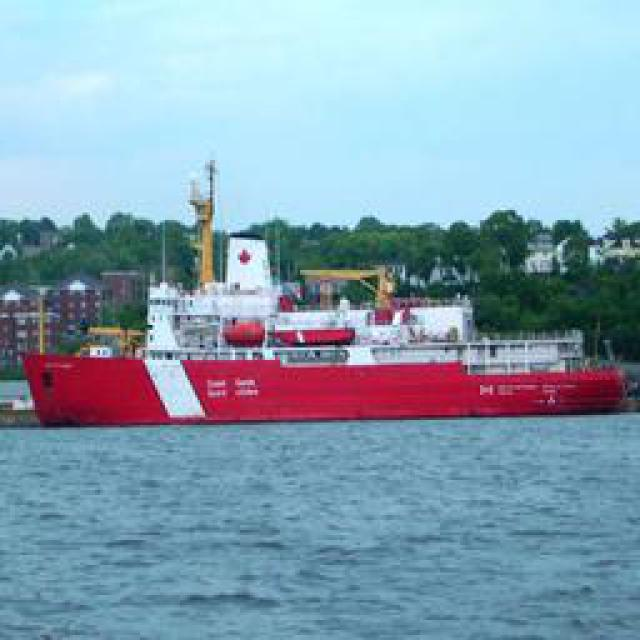Ship: (11, 280, 631, 430)
